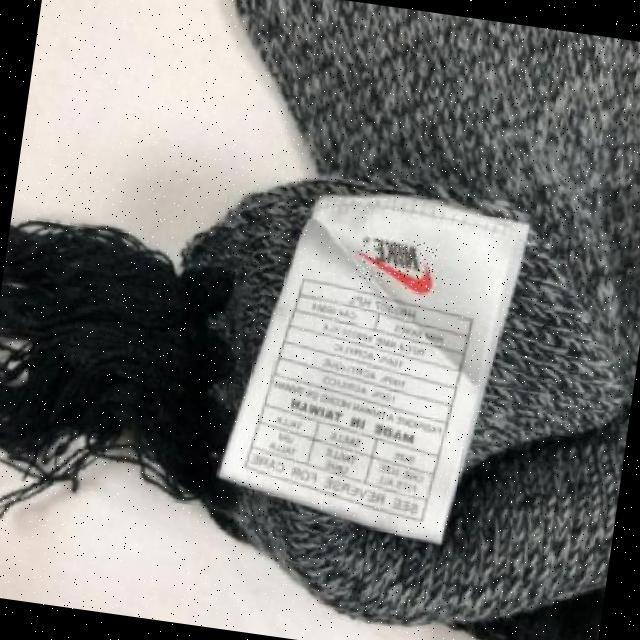Nike: (356, 234, 442, 293)
